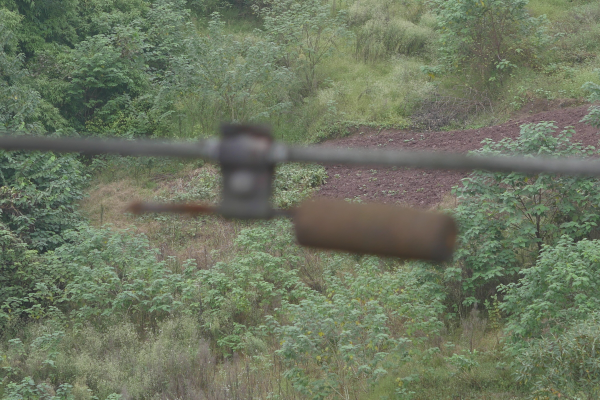damper_defect: (118, 117, 461, 268)
